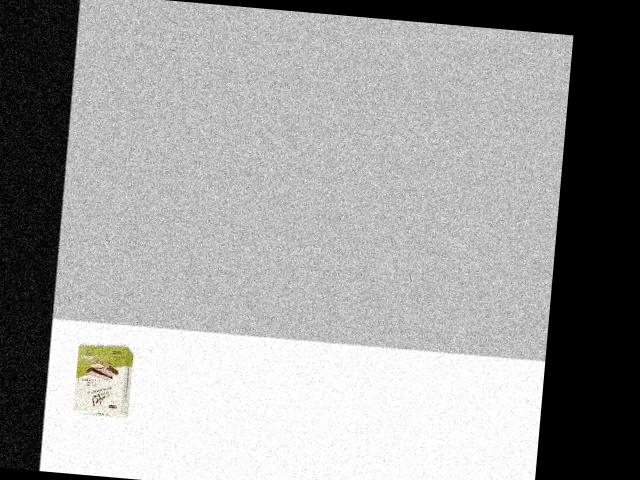chocolate: (71, 340, 138, 419)
